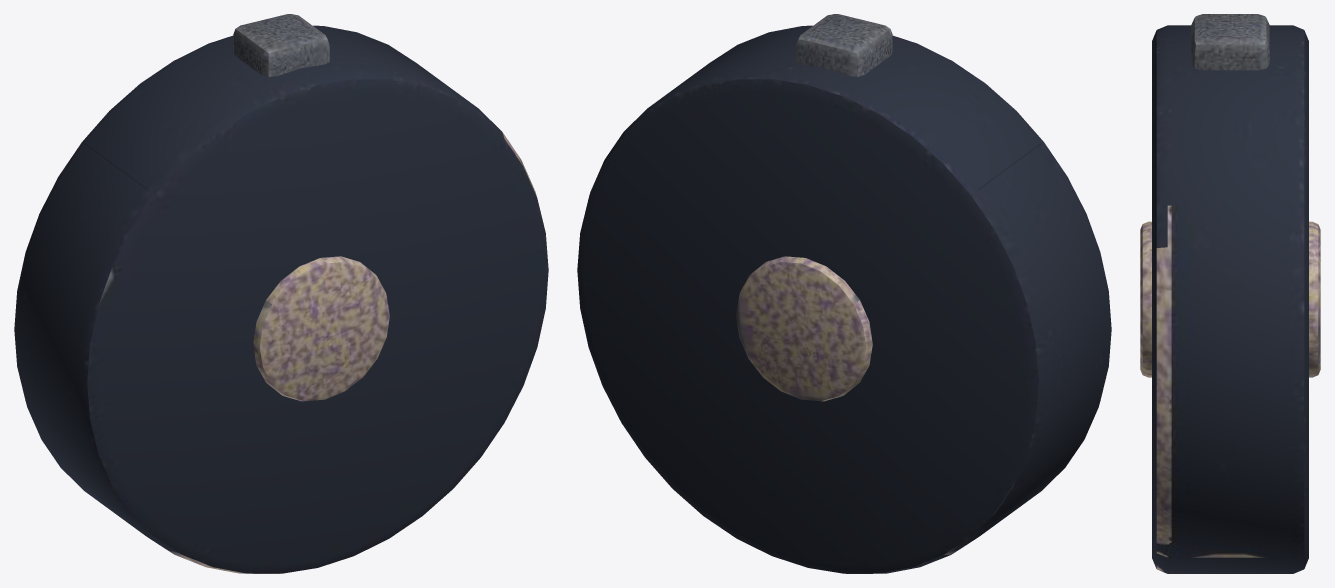
File: att_drum.glb
The picture shows the model from 3 angles, left to right: view 1: azimuth 30°, elevation 25°; view 2: azimuth 150°, elevation 25°; view 3: azimuth 270°, elevation 25°; orthographic projection.
Visible parts, largest first — view 1: drum, drum_hub, neck; view 2: drum, drum_hub, neck; view 3: drum, neck, drum_hub.
Part boxes in pixels (x1,y1,x2,y2): drum: (14, 25, 548, 573); drum_hub: (253, 256, 389, 401); neck: (233, 14, 329, 76); drum: (577, 25, 1111, 573); drum_hub: (736, 256, 872, 401); neck: (796, 14, 892, 76); drum: (1152, 25, 1308, 573); neck: (1191, 14, 1269, 70); drum_hub: (1140, 221, 1320, 377).
Bounding box in the file's own units: 0.14 × 0.147 × 0.046.
1 material, 1 textured.
